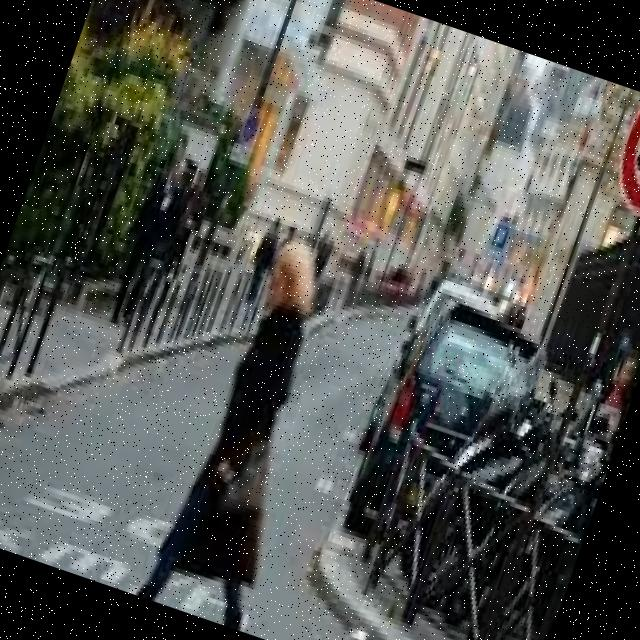speed_limit_30: (591, 88, 640, 233)
